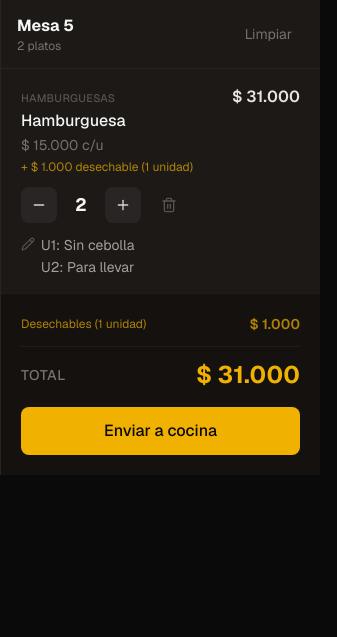
it: OrderSummary — notes › opens editor from per-unit note display
The width and height of the screenshot is (337, 637).
Click the text "U1: Sin cebolla" at (88, 245), box x1=41 y1=235 x2=134 y2=255
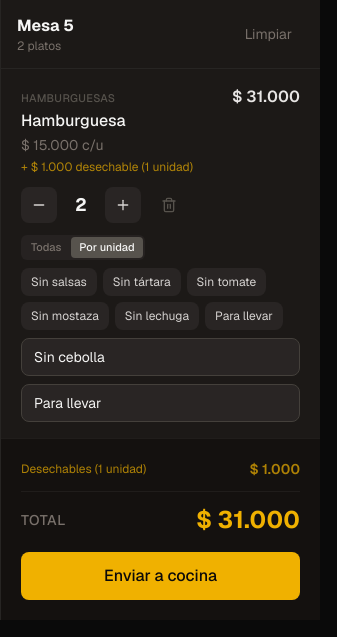
Check: the button "Sin salsas" is shown, box x1=21 y1=268 x2=97 y2=296
